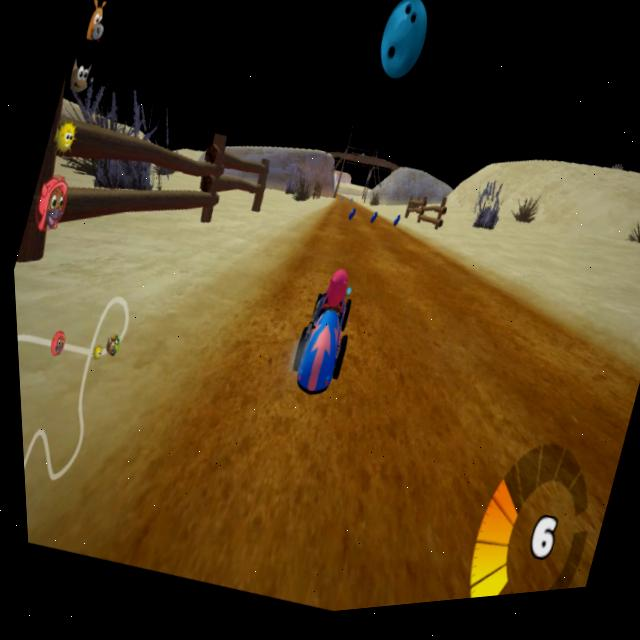nitro: (388, 217, 404, 239), (342, 211, 359, 229), (362, 217, 380, 233)
off_track: (453, 195, 640, 328)
player_kart: (260, 255, 380, 435)
track: (294, 206, 444, 297)
